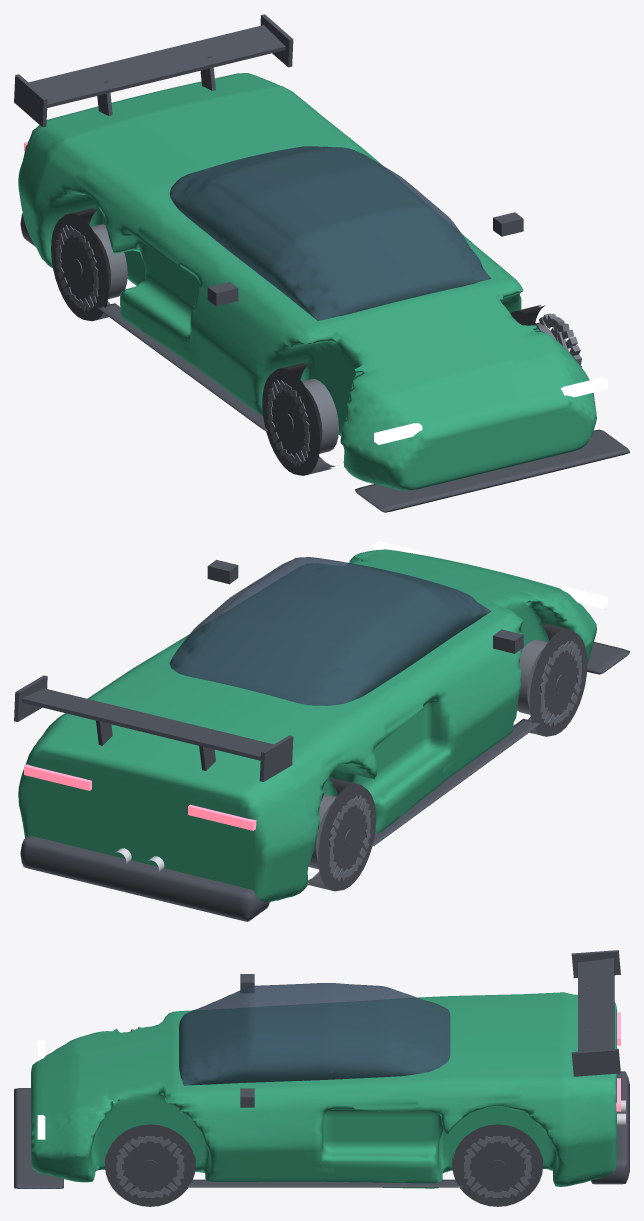
File: solstice_r.glb
3 renders of one model, top to bottom at view 1: azimuth 30°, elevation 25°; view 2: azimuth 150°, elevation 25°; view 3: azimuth 270°, elevation 25°, orthographic. The views are drawn at different scales.
Parts seen in each view (by area): view 1: Bodywork, CanopyGlass, CarbonAero (×3), TireRubber, ForgedRim, HeadlightLED; view 2: Bodywork, CanopyGlass, CarbonAero (×3), TireRubber, ForgedRim, TaillightLED, HeadlightLED; view 3: Bodywork, CanopyGlass, CarbonAero (×3), TireRubber, ForgedRim, HeadlightLED.
Boxes of the visible parts, x1,y1,x2,y2 form: Bodywork: (18,73,596,490); CanopyGlass: (169,146,490,320); CarbonAero (×3): (14,14,629,512); TireRubber: (51,207,545,475); ForgedRim: (56,224,581,466); HeadlightLED: (374,377,607,444); Bodywork: (18,549,596,902); CanopyGlass: (169,557,490,705); CarbonAero (×3): (14,560,629,921); TireRubber: (307,623,587,891); ForgedRim: (308,640,581,881); TaillightLED: (24,764,256,830); HeadlightLED: (374,541,607,608); Bodywork: (31,992,616,1188); CanopyGlass: (179,983,450,1085); CarbonAero (×3): (14,950,629,1188); TireRubber: (105,1124,542,1206); ForgedRim: (116,1027,531,1197); HeadlightLED: (37,1040,45,1139).
Size of the model in its own units: 2.25 by 1.31 by 4.75.
